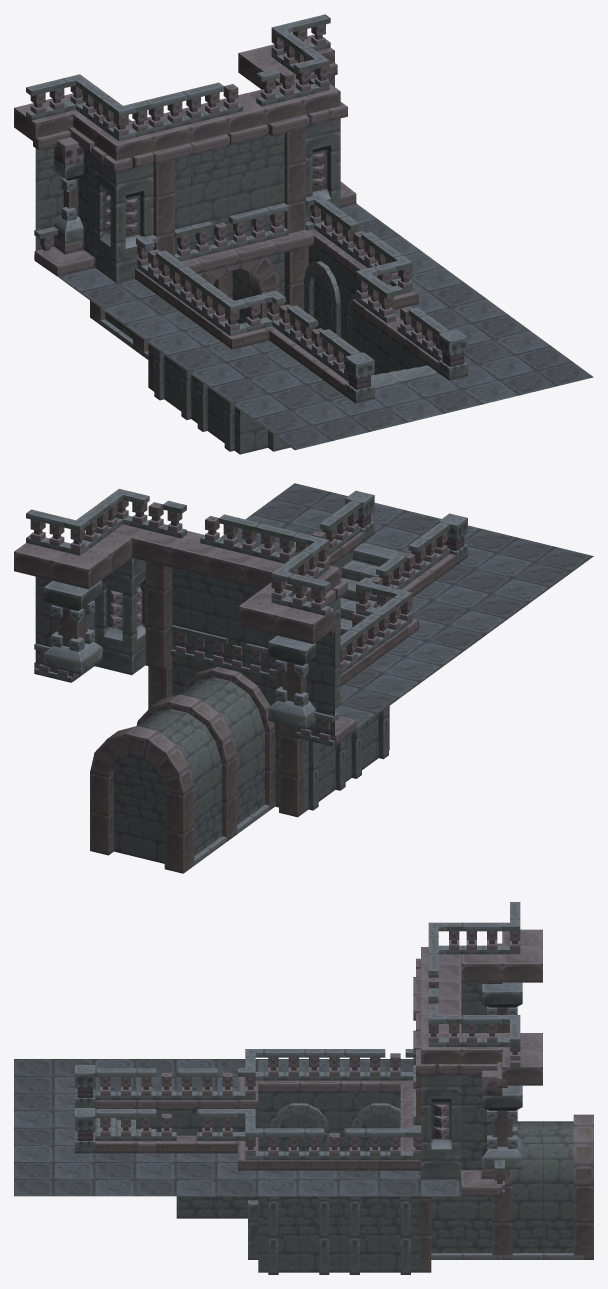
The model's file is exit_1_stairs_down_purple.fbx.
3 renders of one model, top to bottom at view 1: azimuth 30°, elevation 25°; view 2: azimuth 150°, elevation 25°; view 3: azimuth 270°, elevation 25°, orthographic. The views are drawn at different scales.
Parts seen in each view (by area): view 1: exit_1_stairs_down_purple; view 2: exit_1_stairs_down_purple; view 3: exit_1_stairs_down_purple.
Part boxes in pixels (x1,y1,x2,y2): exit_1_stairs_down_purple: (14,14,593,454); exit_1_stairs_down_purple: (14,483,593,873); exit_1_stairs_down_purple: (14,902,593,1274).
Size of the model in its own units: 129 by 116 by 228.
